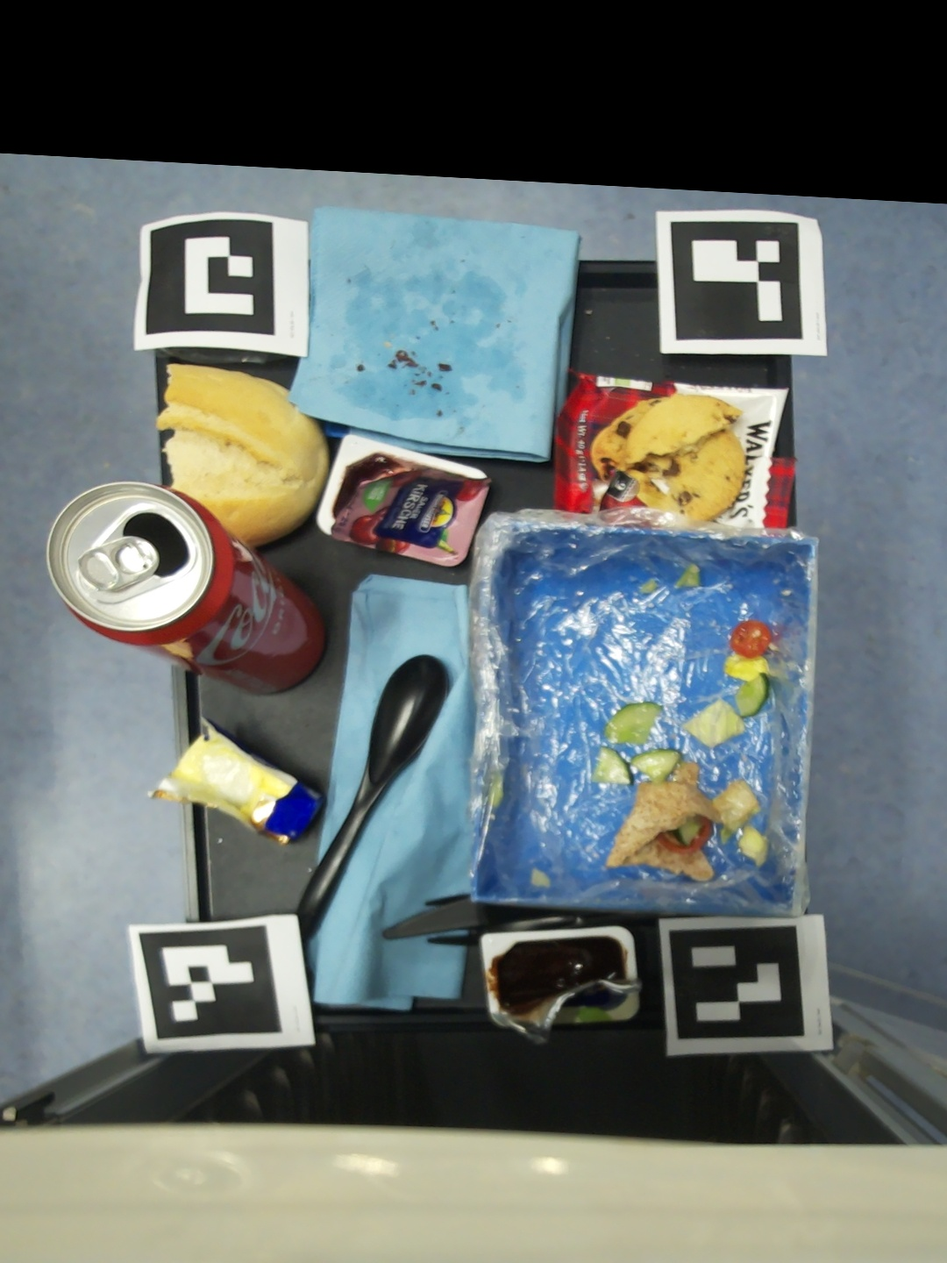bread_roll: (154, 364, 330, 548)
brownie: (388, 350, 419, 369), (440, 364, 452, 372)
butter: (148, 716, 323, 846)
cherry_jam: (316, 435, 489, 566)
cola_can: (47, 481, 325, 694)
cookie: (553, 369, 796, 529)
plum_jam: (481, 926, 640, 1045)
wrap_half_1: (592, 746, 769, 881), (682, 620, 772, 748), (603, 701, 664, 746), (676, 563, 700, 587), (529, 868, 550, 888), (488, 778, 503, 806), (640, 579, 656, 593)
